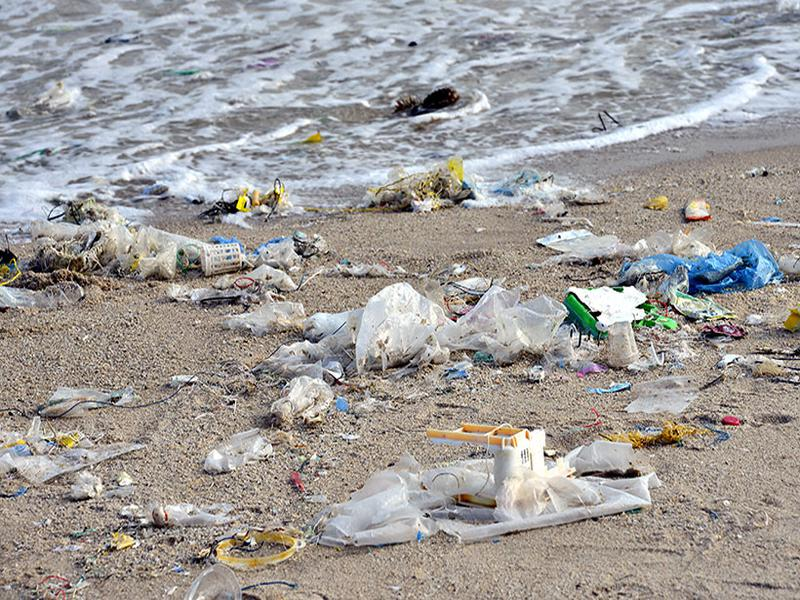plastic: (448, 467, 662, 543), (320, 444, 446, 551), (335, 274, 447, 371), (617, 239, 787, 298), (447, 284, 572, 361), (4, 424, 149, 485), (458, 171, 607, 223), (194, 422, 287, 474), (618, 374, 704, 422)
